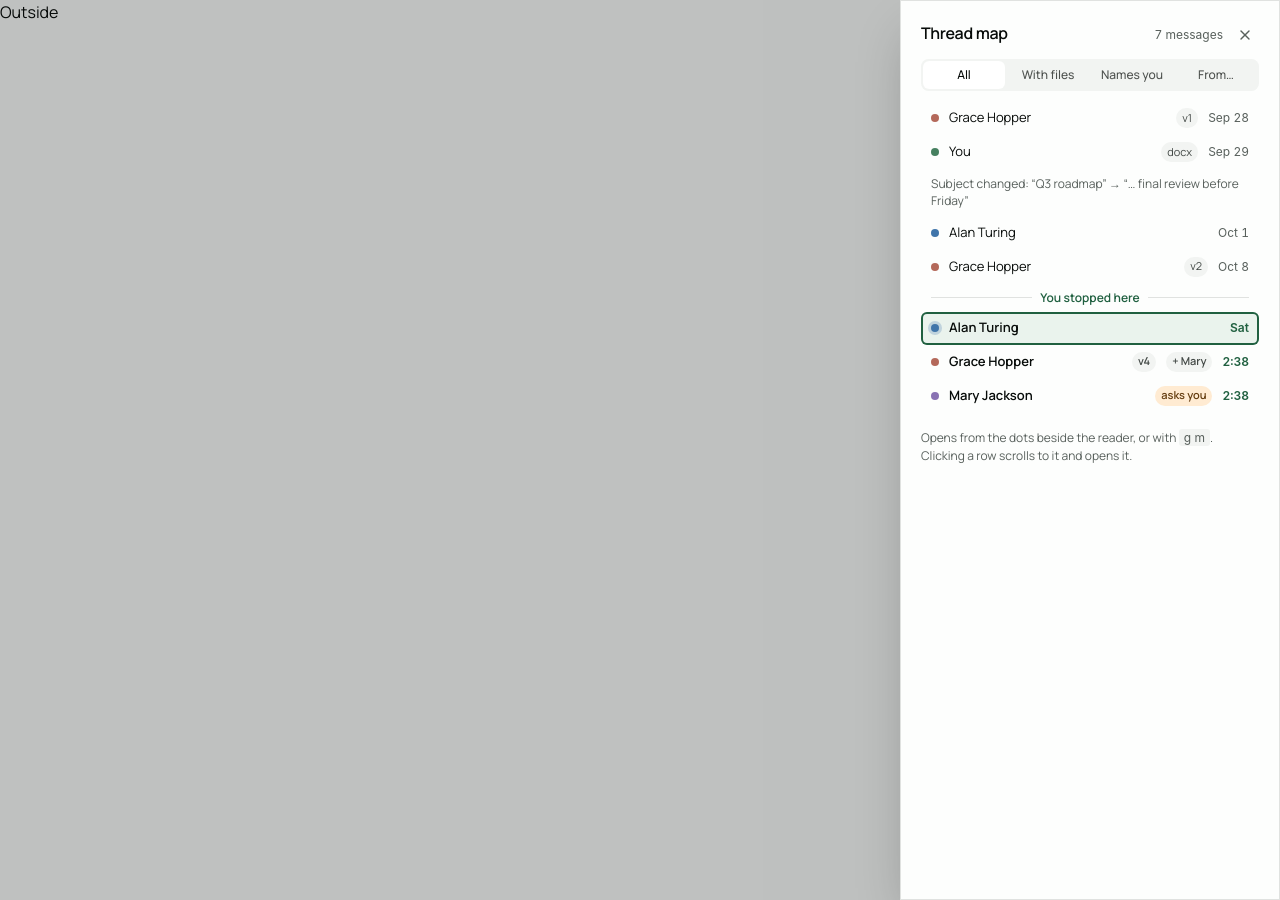
Test case: ThreadMapPanel as a sheet below xl › drops the stopped rule when the filtered rows are all on one side of it
The width and height of the screenshot is (1280, 900).
Step 1. Click the button "Names you" → (1132, 75), box left=1091, top=61, right=1173, bottom=89
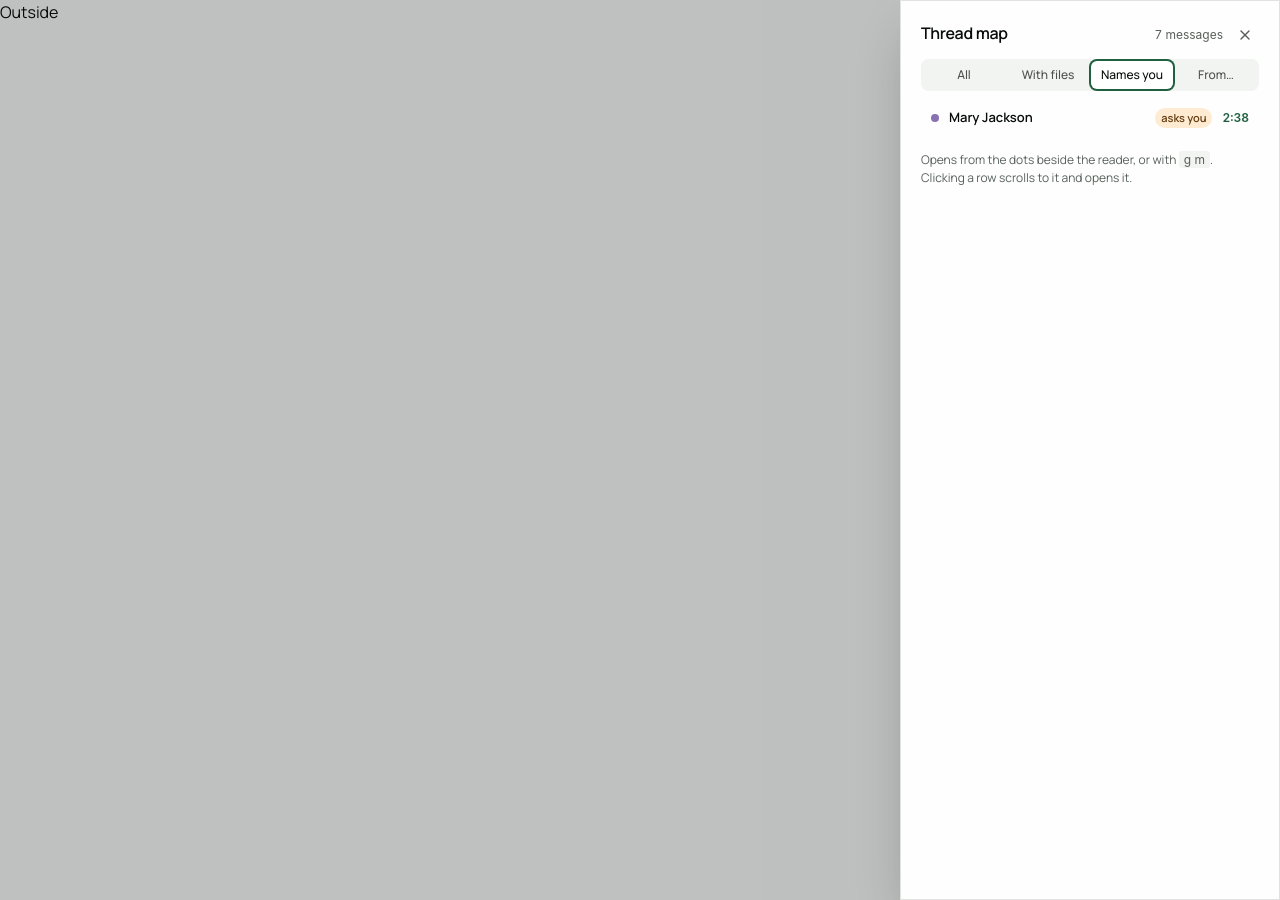
Now the text "You stopped here" is gone
